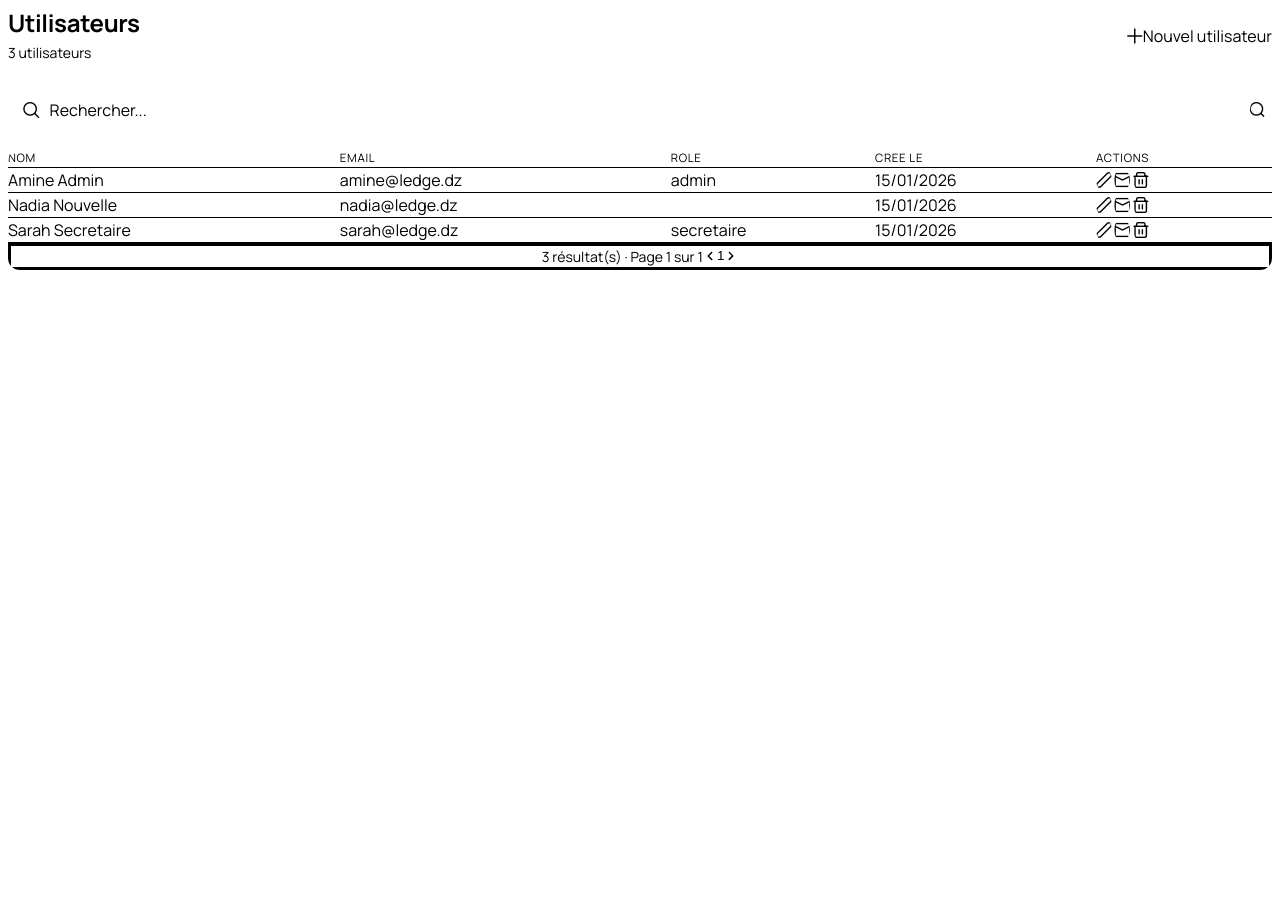
Scenario: UserListPage — renvoi d invitation › demande confirmation puis renvoie l invitation et affiche le nouveau lien
The image size is (1280, 900).
Click the button named "Renvoyer l'invitation a Sarah Secretaire". click: {"x": 1122, "y": 230}
box: [1114,219,1130,241]
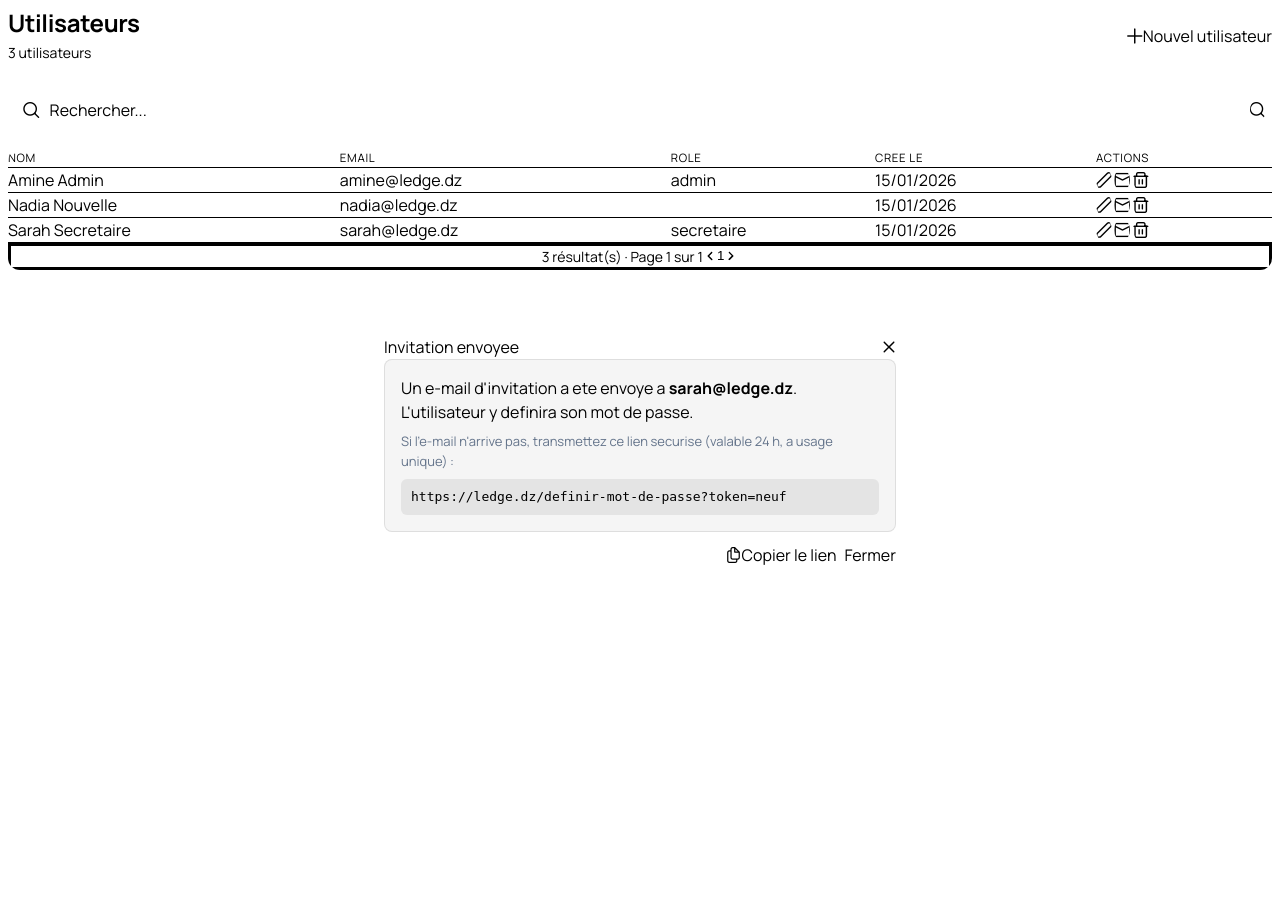
Expected: the text "sarah@ledge.dz" is shown, [340,218,671,243]
Result: the text "Invitation envoyee" is shown at [384,335,519,359]
Result: the text "token=neuf" is shown at [411,489,787,504]
